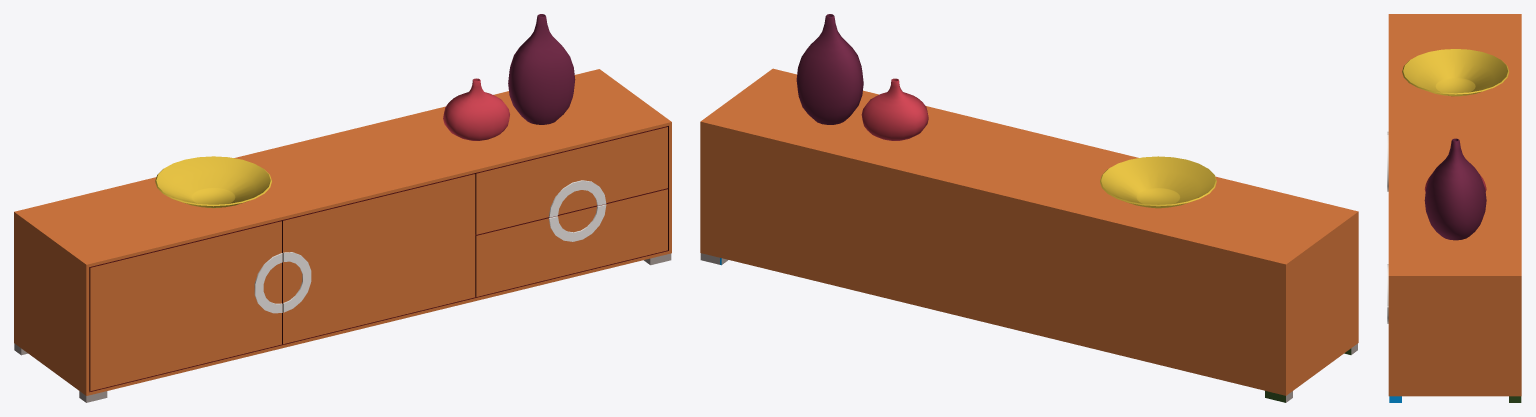
File: Long Table.fbx
The picture shows the model from 3 angles, left to right: view 1: azimuth 30°, elevation 25°; view 2: azimuth 150°, elevation 25°; view 3: azimuth 270°, elevation 25°; orthographic projection. The views are drawn at different scales.
Parts seen in each view (by area): view 1: Long Table; view 2: Long Table; view 3: Long Table.
Boxes of the visible parts, bbox=[...] form: Long Table: bbox=[14, 14, 671, 402]; Long Table: bbox=[700, 14, 1358, 402]; Long Table: bbox=[1387, 14, 1521, 402].
Bounding box in the file's own units: 290 × 62.78 × 114.
